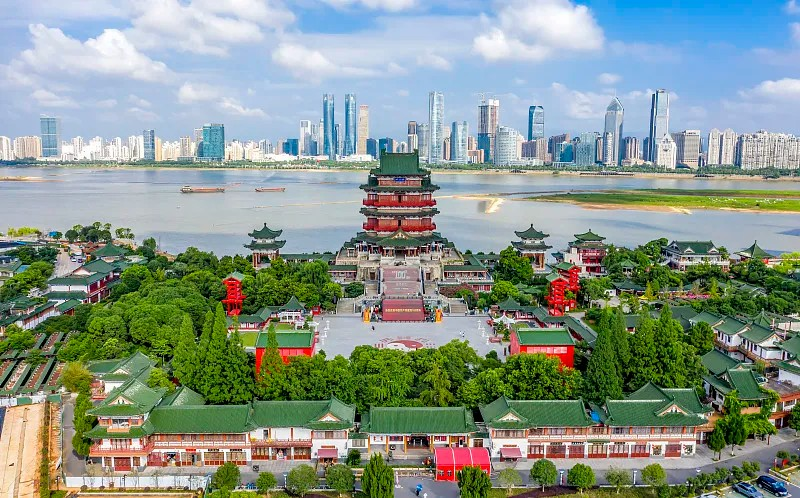Teng: (343, 150, 454, 256)
